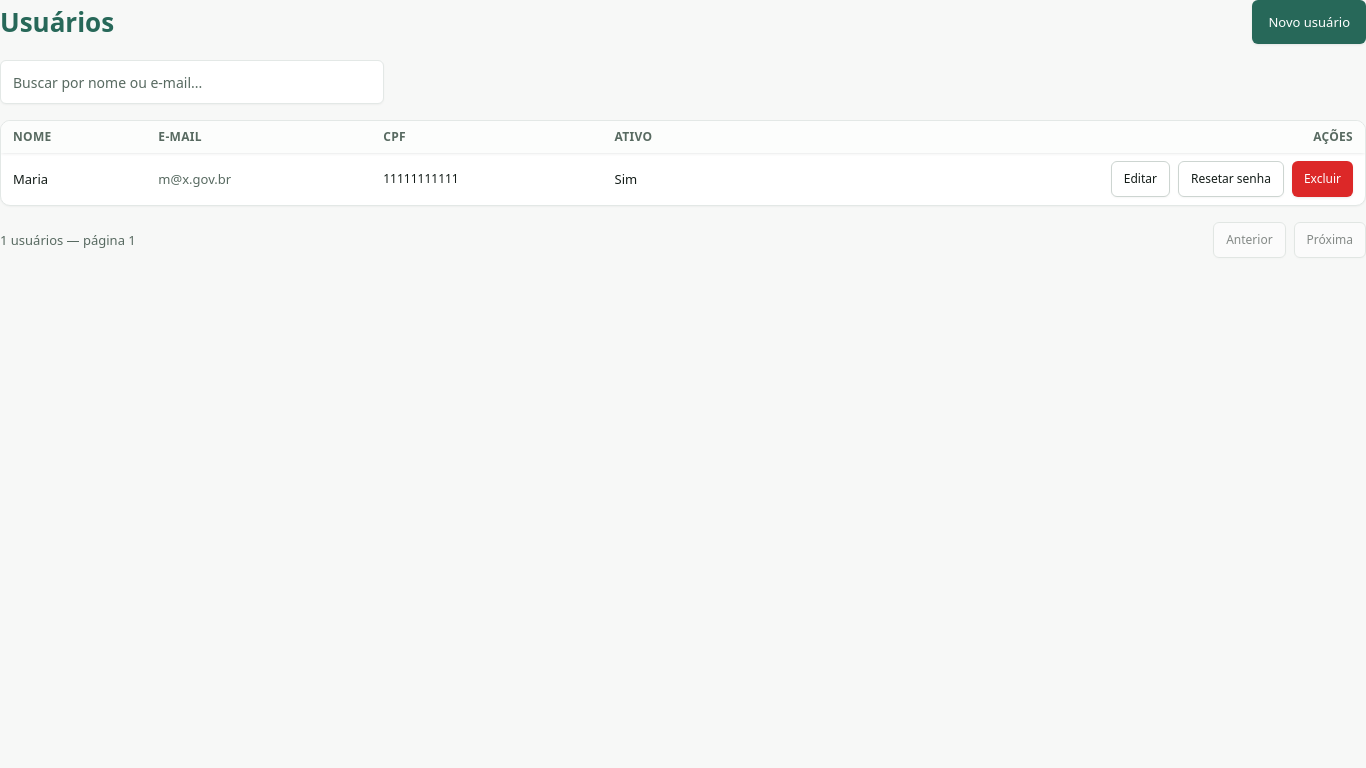
Test: UsuariosPage — reset de senha (PR 3b) › exibe a senha temporária uma única vez após confirmar
Step 1. Click the button "Resetar senha" → (1231, 179), box [1178,161,1284,197]
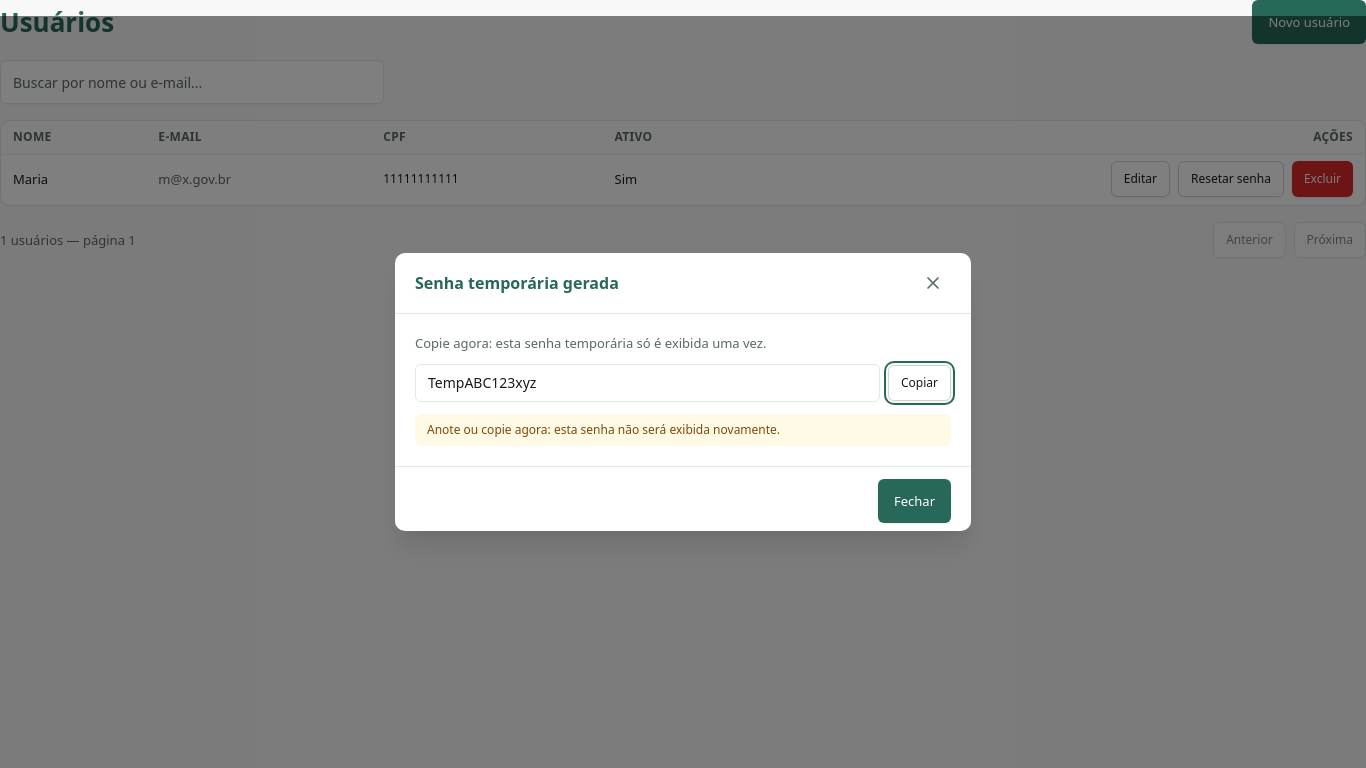
Expected: the text "TempABC123xyz" is shown once, [415,364,880,402]
Expected: the text "Anote ou copie agora: esta senha não será exibida novamente." is shown, [415,414,951,446]
